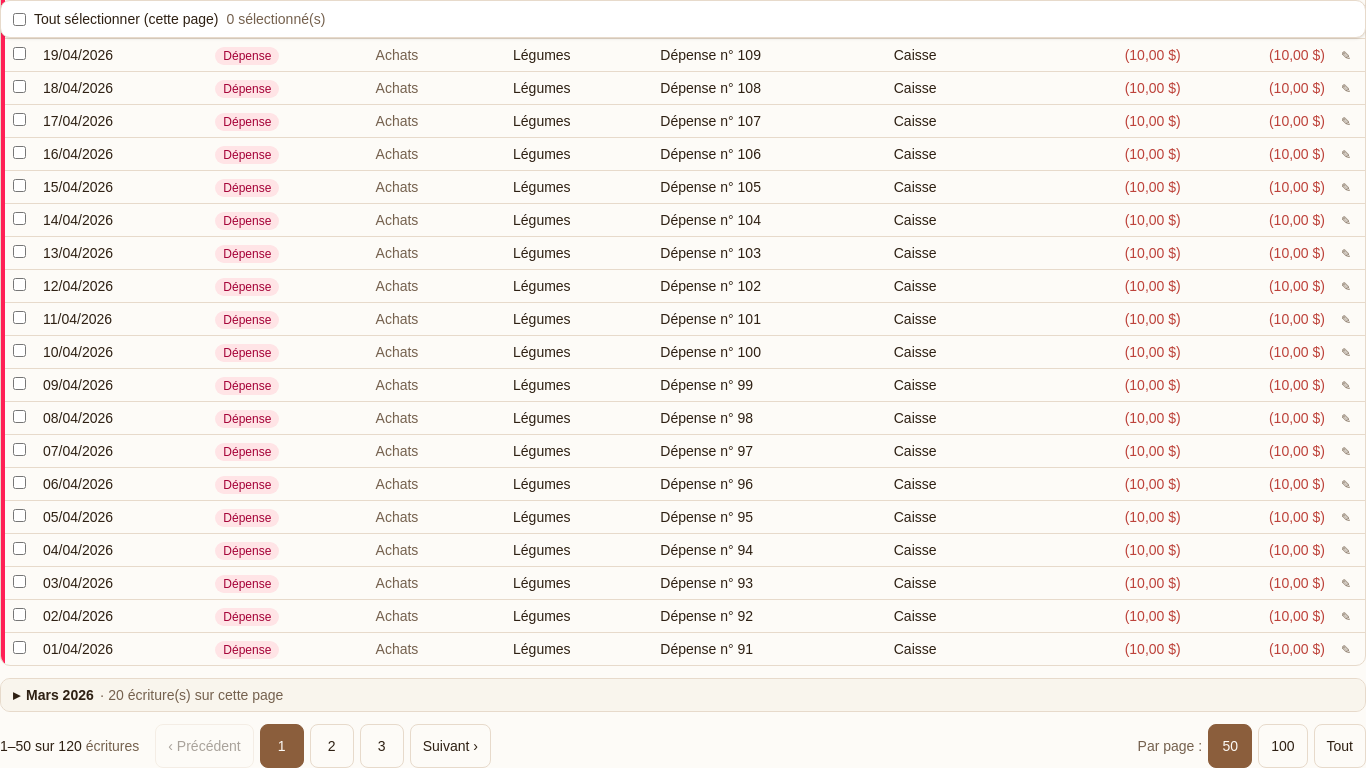
Test case: Journal / Caisse paginé › page 2 dans l'URL ; un mois coupé par la page annonce « sur cette page »
(page scrolled)
Click the button "Suivant ›" at {"x": 450, "y": 746}, box [410,724,491,767]
(page scrolled)
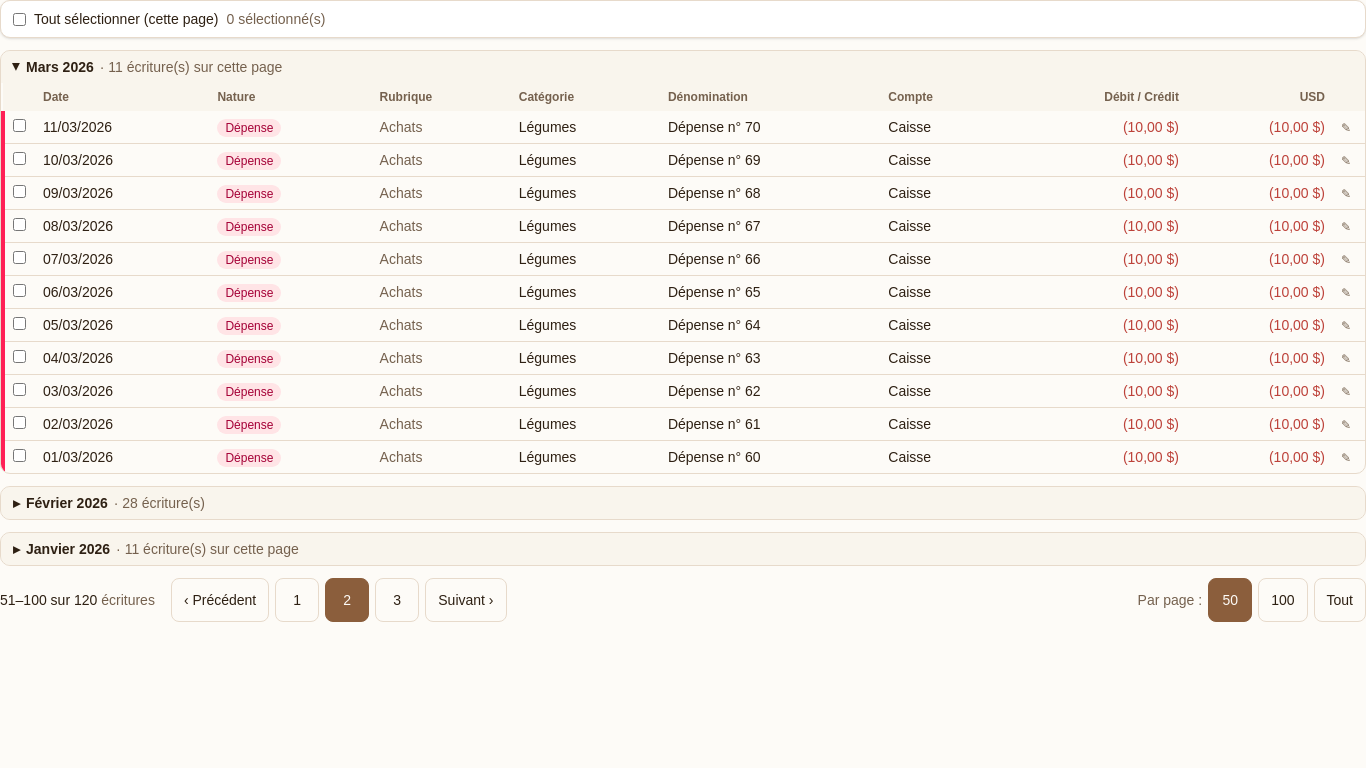
Expected: the text "Dépense n° 70" is shown, [668,119,761,135]
